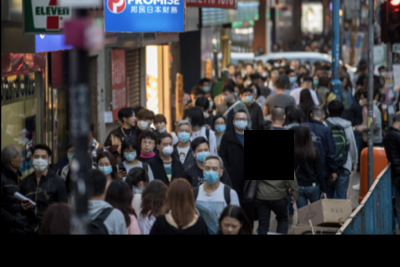mask_weared_incorrect: (154, 122, 166, 132)
with_mask: (204, 164, 221, 184), (32, 153, 49, 172), (195, 146, 211, 163), (98, 161, 114, 177), (160, 140, 175, 156), (234, 115, 249, 131), (177, 126, 191, 143), (123, 148, 138, 161), (136, 117, 150, 130), (215, 120, 227, 132), (223, 92, 234, 102), (243, 93, 253, 104), (288, 73, 298, 83), (202, 82, 211, 93), (359, 97, 369, 106), (68, 148, 75, 160), (313, 77, 320, 85)
without_mask: (222, 215, 241, 234), (143, 138, 156, 152), (15, 152, 23, 168), (127, 113, 137, 125)
